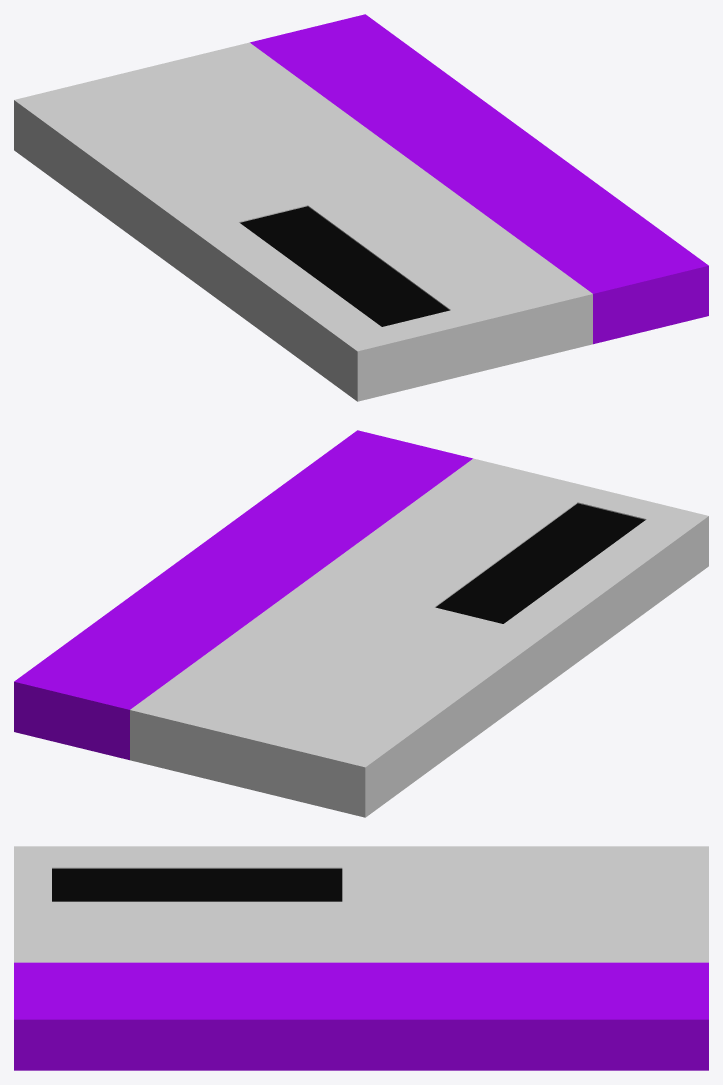
Rendered from purple_card.glb.
3 views of the same model, one above another, from view 1: azimuth 30°, elevation 25°; view 2: azimuth 150°, elevation 25°; view 3: azimuth 270°, elevation 25° (orthographic).
Parts seen in each view (by area): view 1: Cube-col.002; view 2: Cube-col.002; view 3: Cube-col.002.
Part boxes in pixels (box(x1,y1,x2,y2)): Cube-col.002: box(14, 14, 708, 401); Cube-col.002: box(14, 430, 708, 817); Cube-col.002: box(14, 846, 708, 1070).
Bounding box in the file's own units: 0.95 × 0.13 × 1.61.
